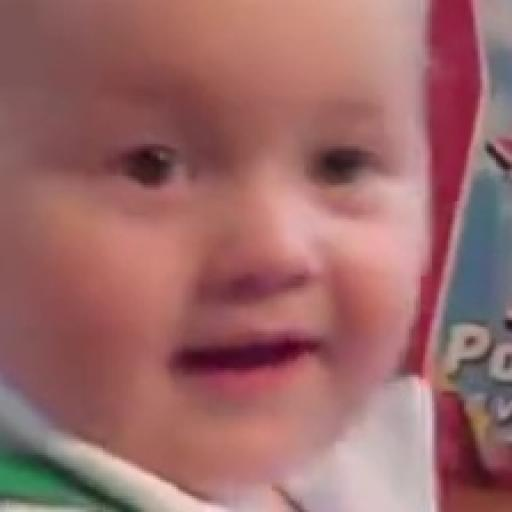Autism: (0, 9, 507, 497)
